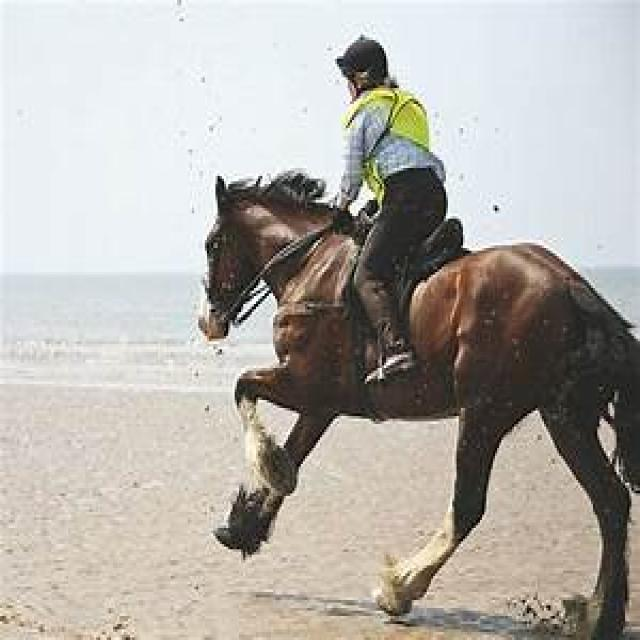horse: (198, 176, 640, 640)
